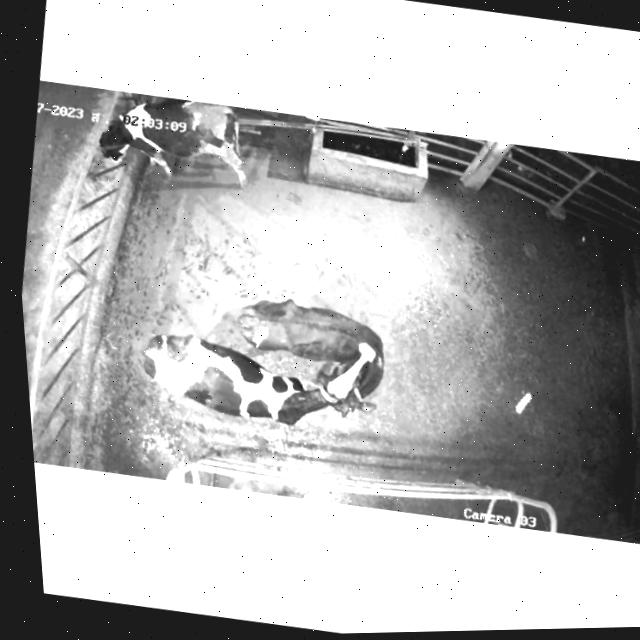propping: (300, 316, 410, 435)
